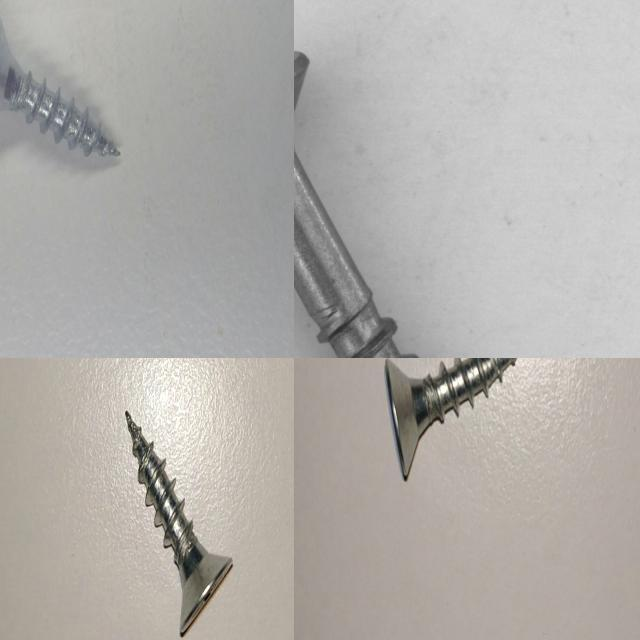Screw: (294, 36, 524, 358), (125, 410, 233, 637), (0, 17, 120, 154), (384, 358, 517, 479)
